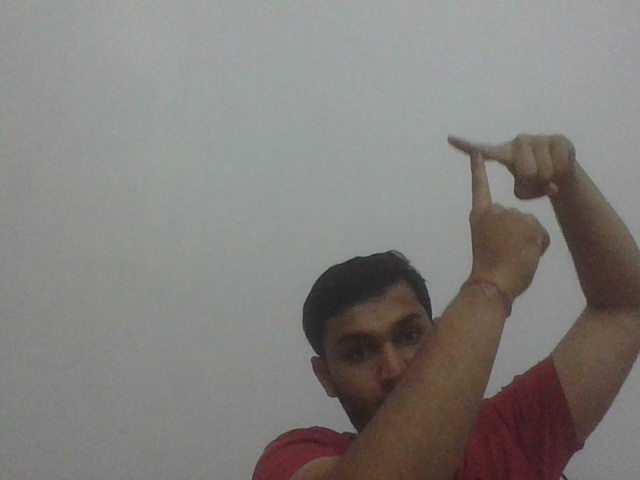T: (442, 127, 503, 202)
